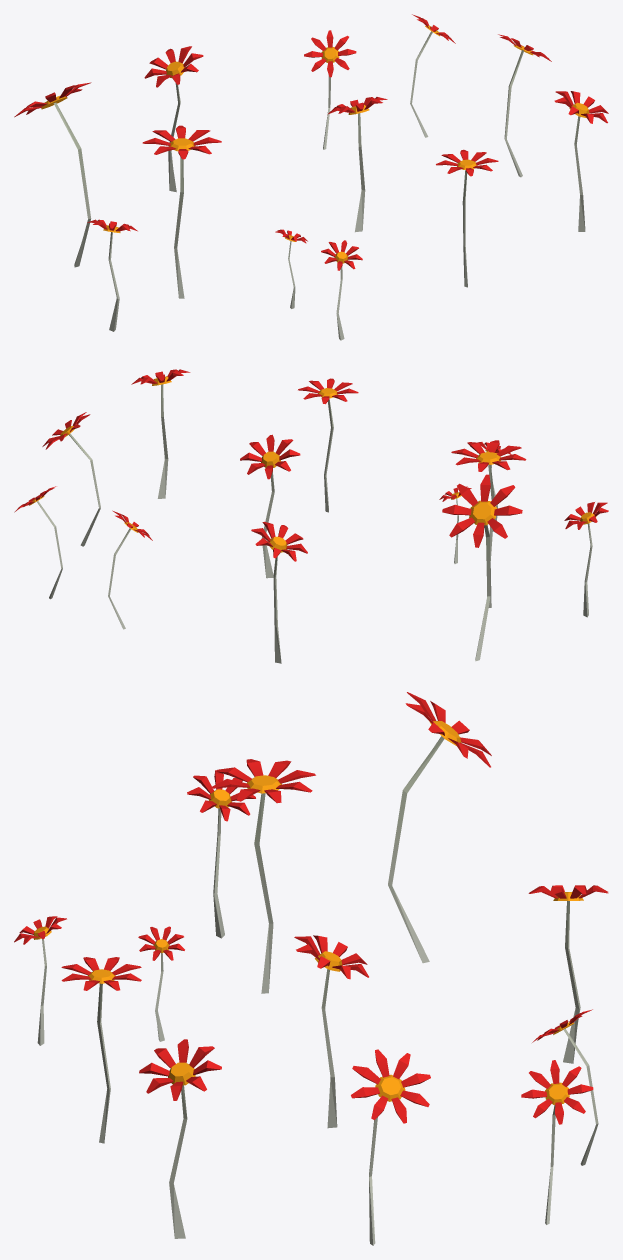
The model's file is flower_red.glb.
The picture shows the model from 3 angles, top to bottom: view 1: azimuth 30°, elevation 25°; view 2: azimuth 150°, elevation 25°; view 3: azimuth 270°, elevation 25°; orthographic projection. The views are drawn at different scales.
Visible parts, largest first — view 1: flower_red; view 2: flower_red; view 3: flower_red.
Part boxes in pixels (x1,y1,x2,y2): flower_red: [14, 14, 608, 340]; flower_red: [14, 369, 608, 663]; flower_red: [14, 692, 608, 1245].
Bounding box in the file's own units: 1.01 × 0.35 × 0.7405.
1 material, 1 textured.
